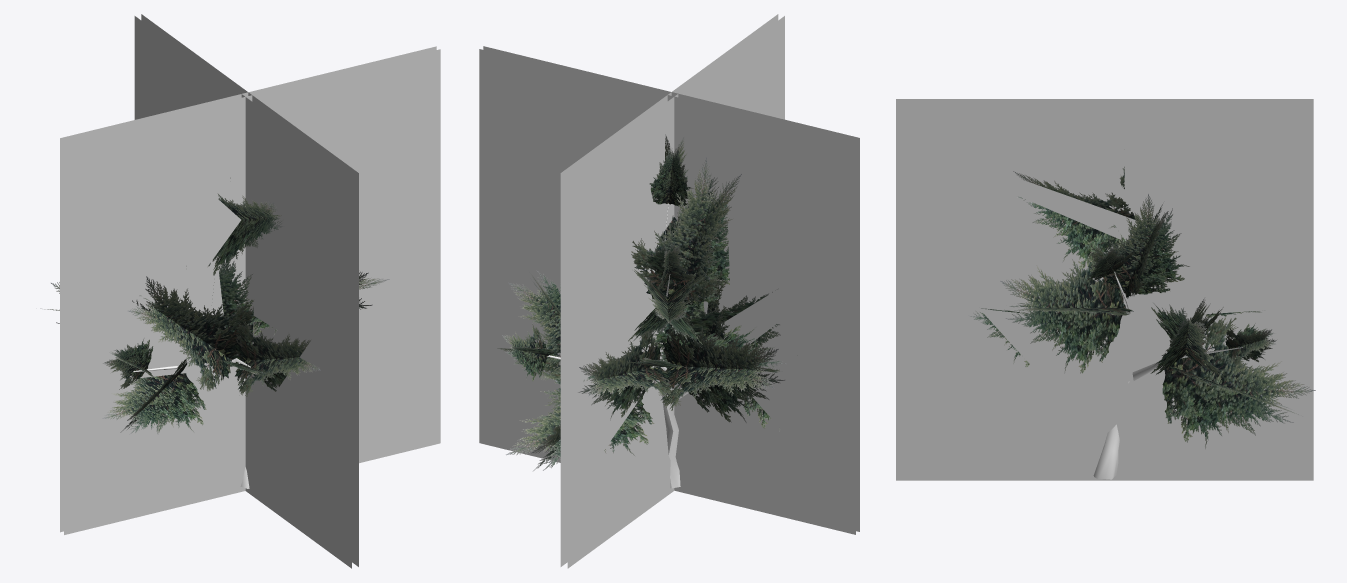
The model's file is Juniper1.fbx.
The picture shows the model from 3 angles, left to right: view 1: azimuth 30°, elevation 25°; view 2: azimuth 150°, elevation 25°; view 3: azimuth 270°, elevation 25°; orthographic projection. The views are drawn at different scales.
Visible parts, largest first — view 1: Billboard-Juniper1, Juniper1-LOD0; view 2: Billboard-Juniper1, Juniper1-LOD0; view 3: Billboard-Juniper1, Juniper1-LOD0.
Boxes of the visible parts, bbox=[...] form: Billboard-Juniper1: bbox=[60, 14, 440, 568]; Juniper1-LOD0: bbox=[40, 177, 389, 488]; Billboard-Juniper1: bbox=[479, 14, 859, 568]; Juniper1-LOD0: bbox=[497, 134, 797, 488]; Billboard-Juniper1: bbox=[896, 99, 1313, 480]; Juniper1-LOD0: bbox=[968, 149, 1315, 479].
Size of what is drawn, in the model's own units: 437 by 437 by 457.
